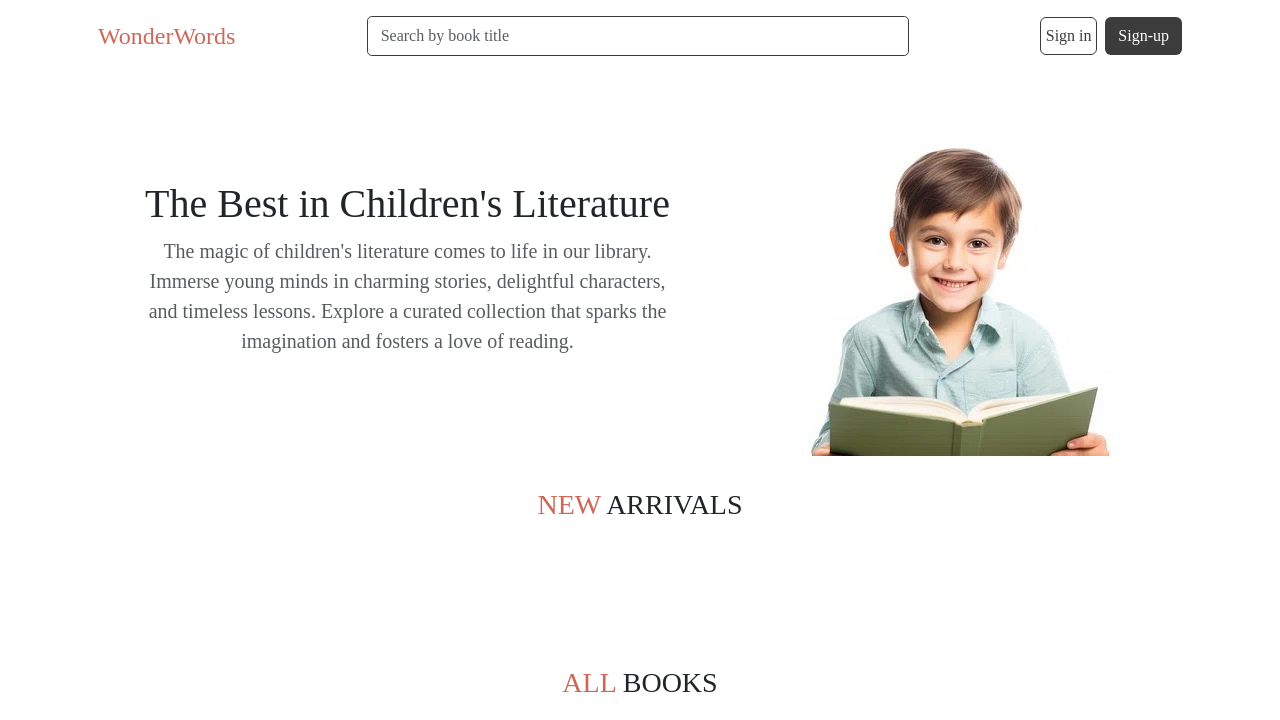
Scenario: User Sign in › Negative cases › should show error when email is missing
Click the button with class "login": (1069, 36) [1040, 17, 1097, 55]
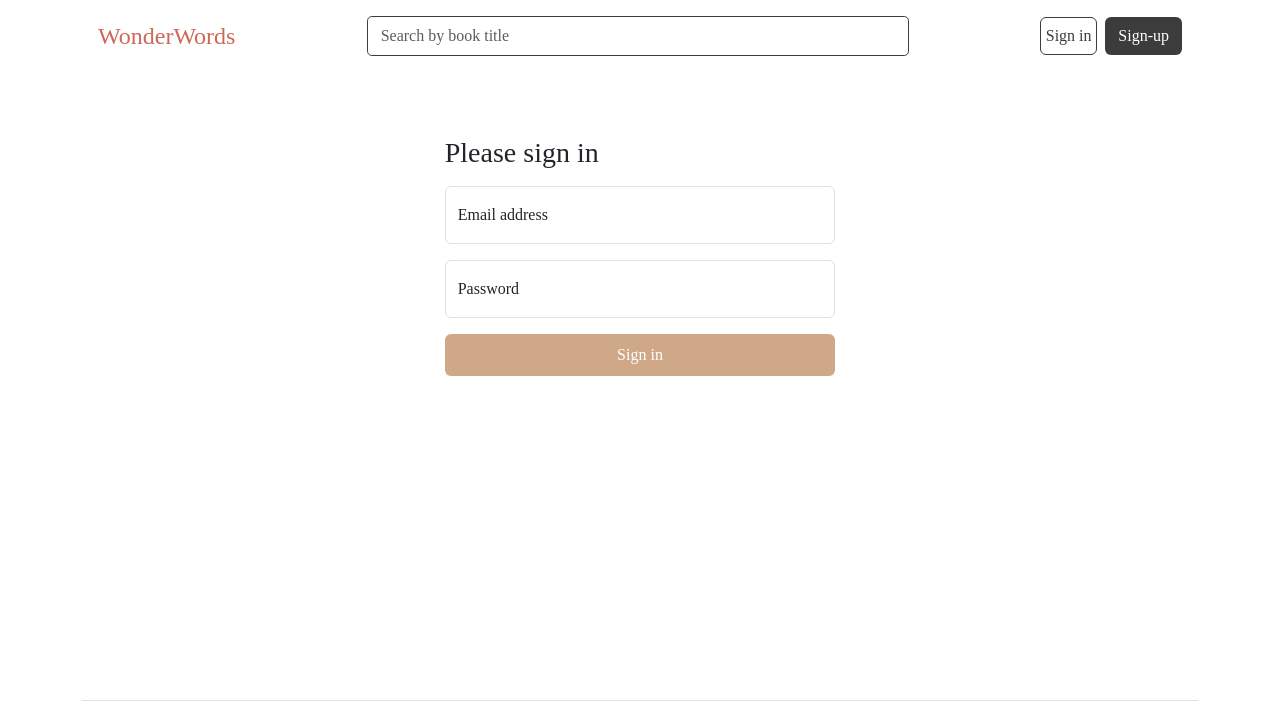
In the password field with test id "input-login-password": (641, 289) [445, 260, 836, 318], type "Alexia1234"
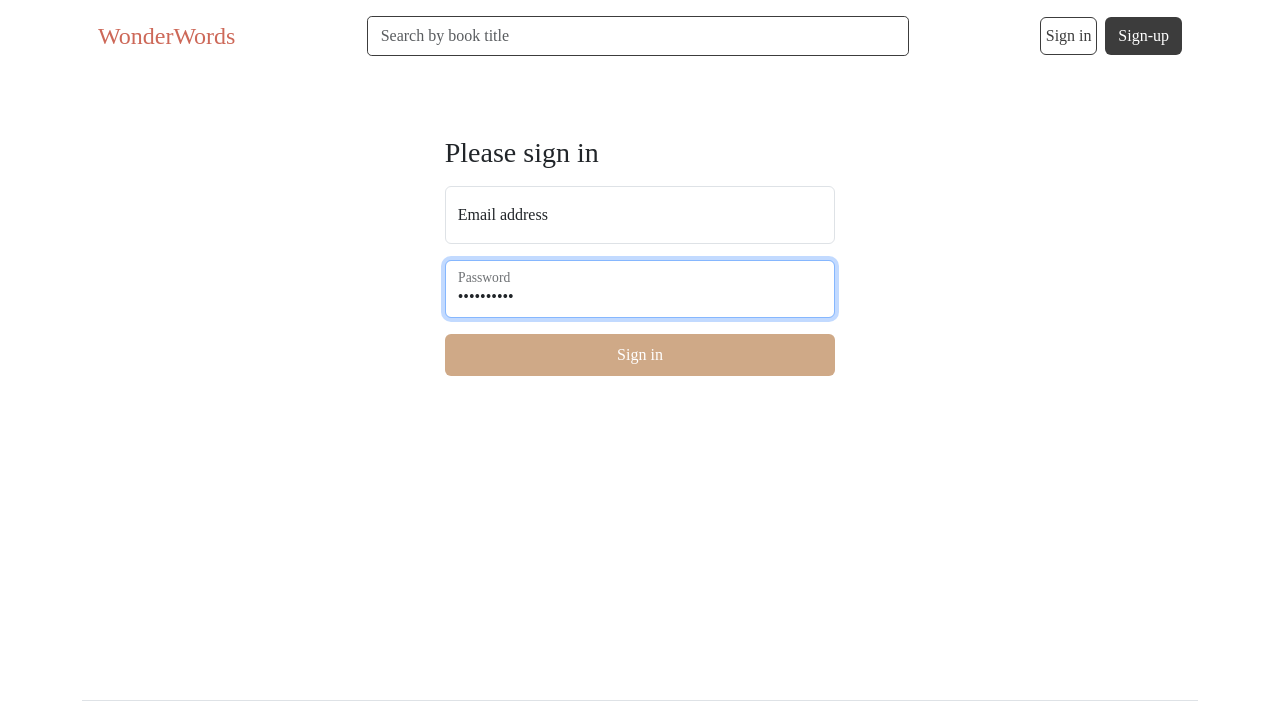
Click the button with test id "submit-login": (641, 355) [445, 334, 836, 376]
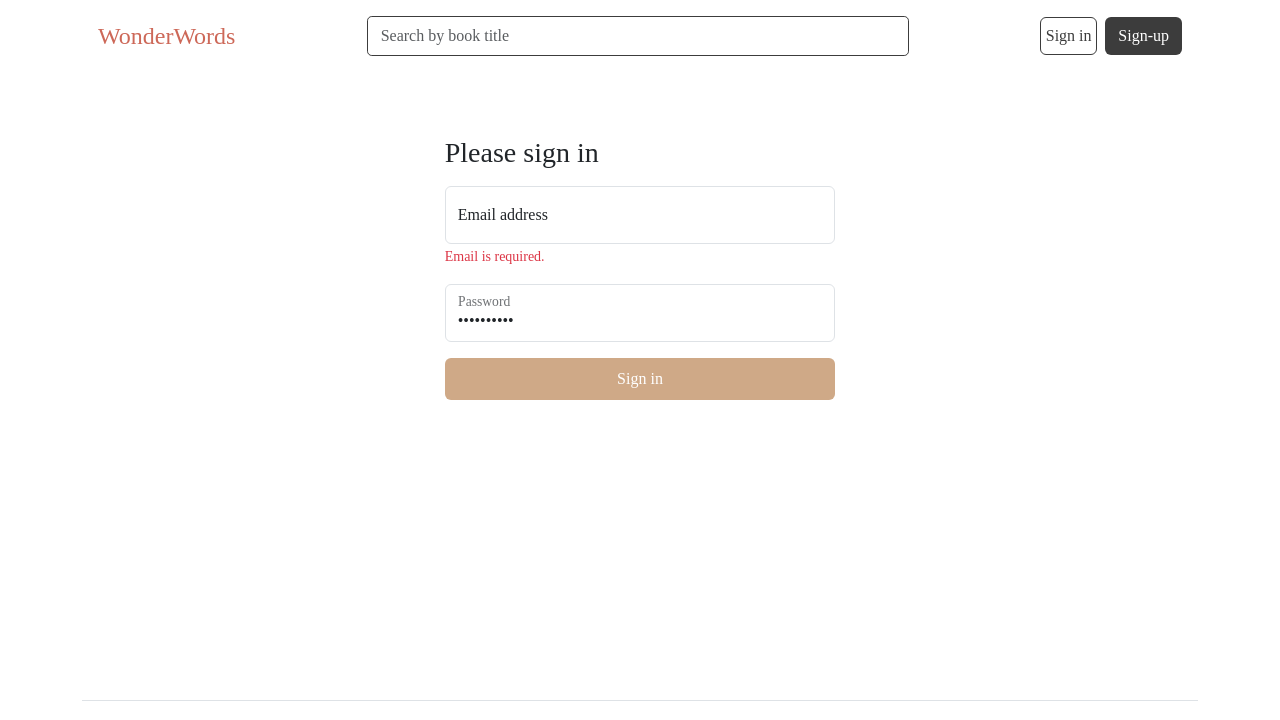
expect the text "Email is required." is shown: met, box [445, 249, 545, 264]
